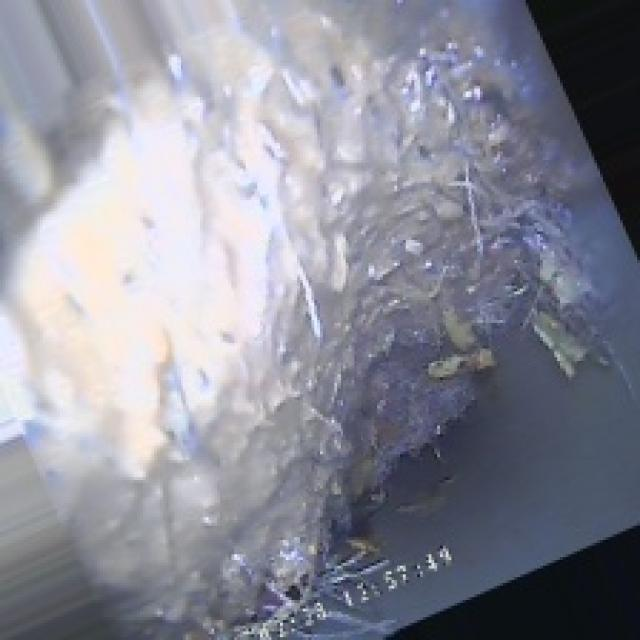sluge accumulation: (8, 63, 603, 523)
